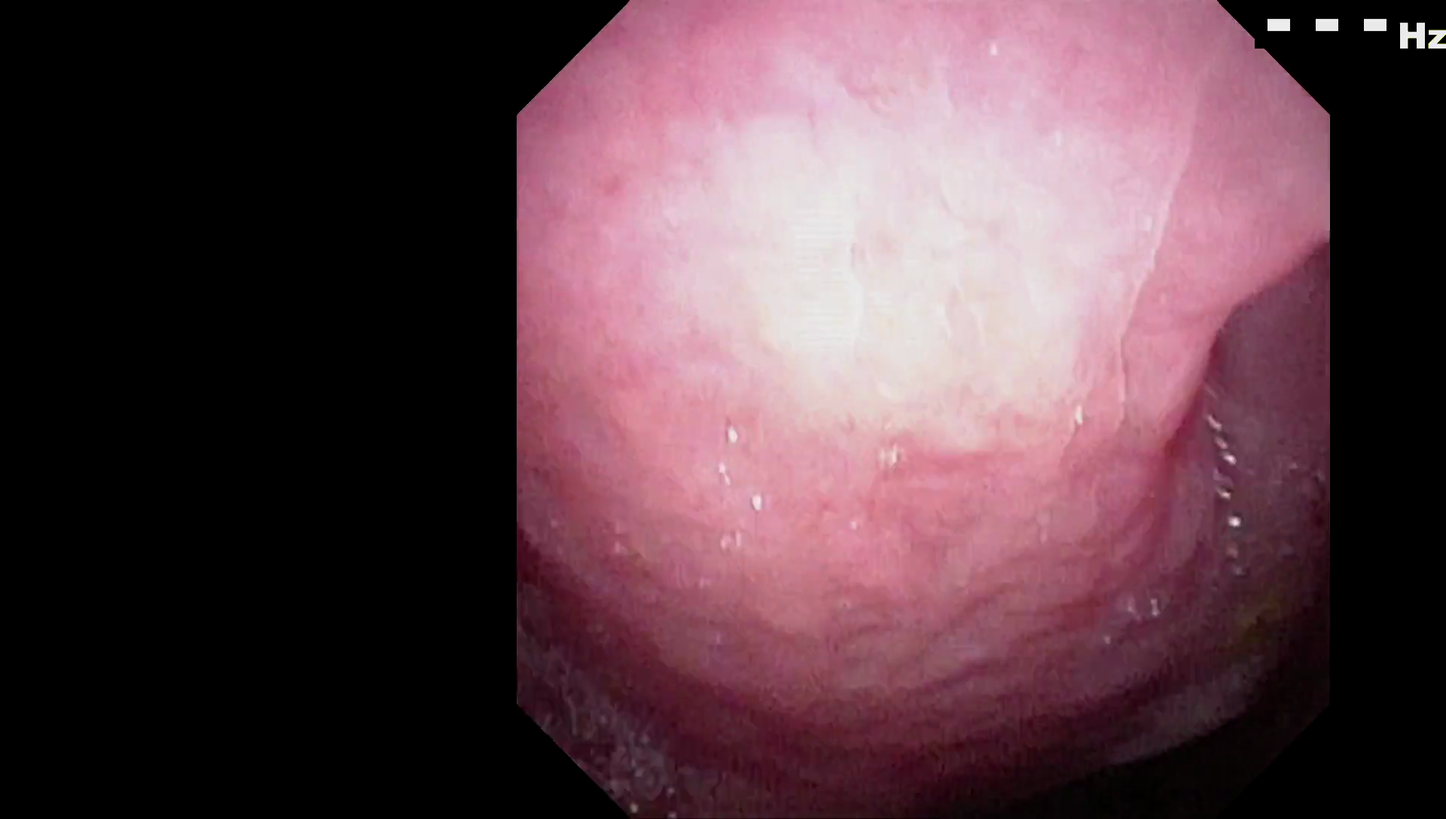close_wall: (547, 65, 1200, 531)
next: (915, 665, 1291, 819)
